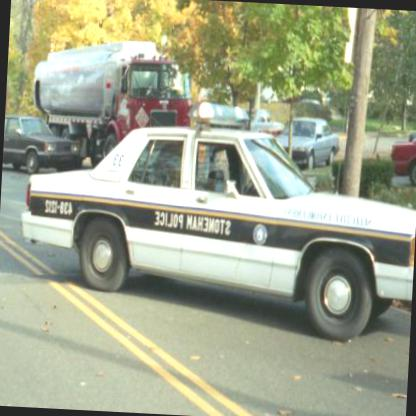car: (15, 90, 415, 344), (2, 113, 80, 178), (274, 115, 340, 172), (387, 119, 415, 186), (239, 106, 285, 134)
